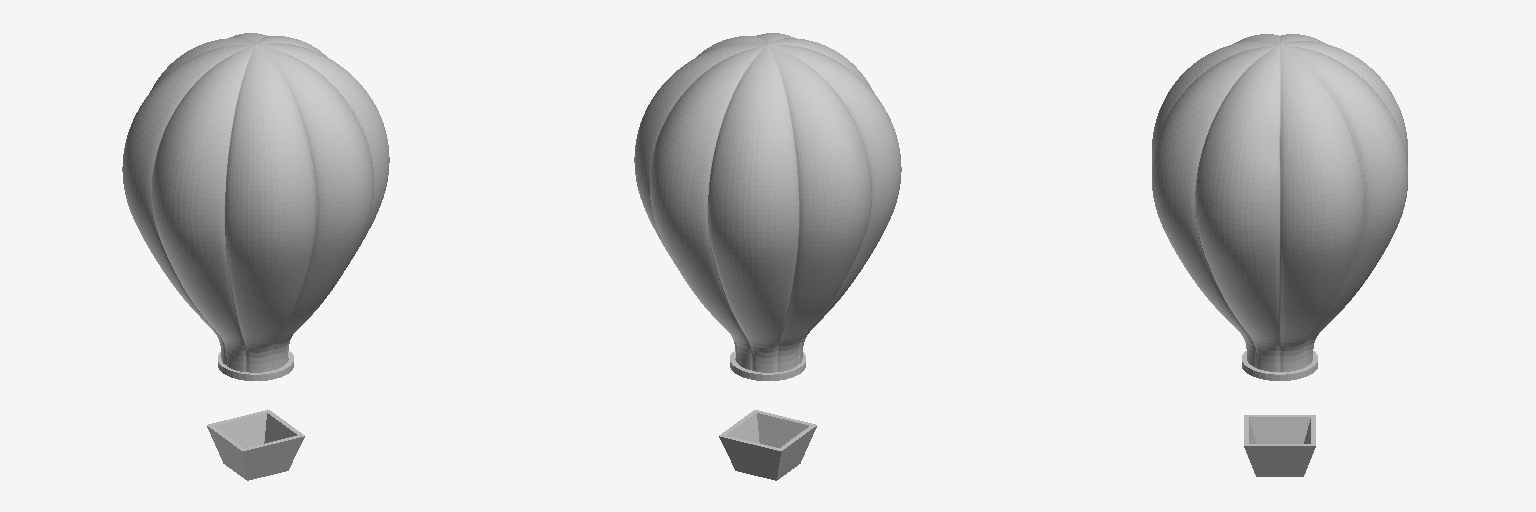
The model's file is balloonBase_save.obj.
3 views of the same model, side by side, from view 1: azimuth 30°, elevation 25°; view 2: azimuth 150°, elevation 25°; view 3: azimuth 270°, elevation 25° (orthographic).
Visible parts, largest first — view 1: Sphere, Cube, Circle; view 2: Sphere, Cube, Circle; view 3: Sphere, Cube, Circle.
Part boxes in pixels (bbox=[...]): Sphere: bbox=[122, 33, 389, 372]; Cube: bbox=[207, 410, 304, 480]; Circle: bbox=[218, 351, 293, 380]; Sphere: bbox=[634, 33, 901, 372]; Cube: bbox=[719, 410, 816, 480]; Circle: bbox=[730, 351, 805, 380]; Sphere: bbox=[1152, 34, 1407, 371]; Cube: bbox=[1244, 415, 1315, 476]; Circle: bbox=[1242, 351, 1317, 380].
Size of the model in its own units: 11.45 by 20.82 by 11.45.